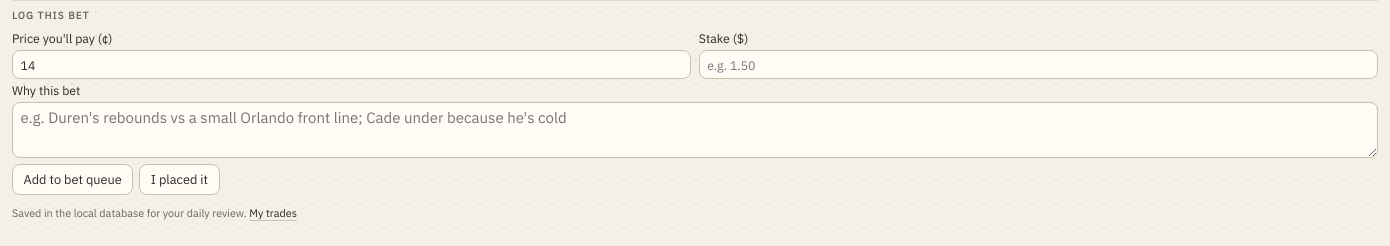
it: Docket: past mistakes and logging a bet › queues the bet with your price, stake and reason (journal header)
The image size is (1390, 246).
Step 1. Type "1.5" into the field labelled "Stake ($)" → (1038, 65), box x1=699 y1=50 x2=1378 y2=79
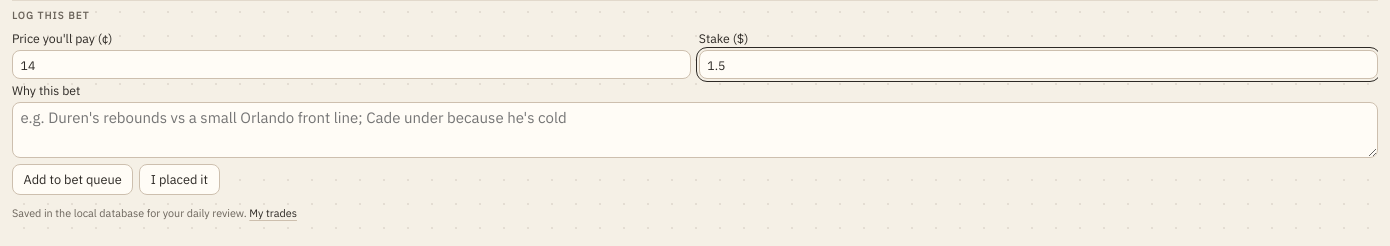
Step 2. Type "Duren vs small lineup" into the text box labelled "Why this bet" → (695, 130), box x1=12 y1=102 x2=1378 y2=158
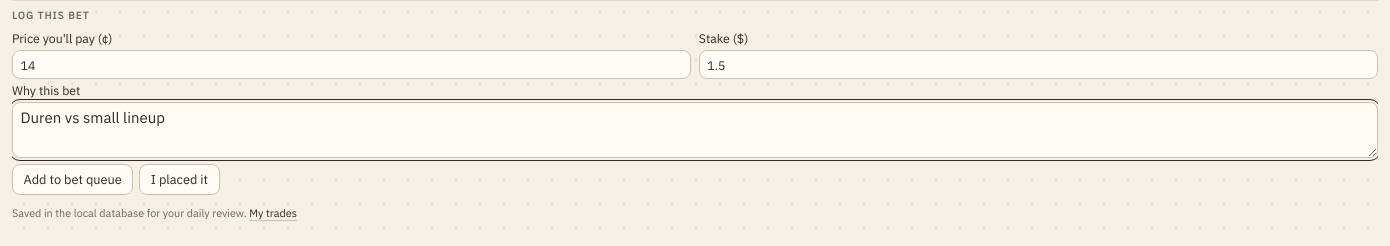
Step 3. Click the button "Add to bet queue" → click(73, 180), box x1=12 y1=164 x2=133 y2=195
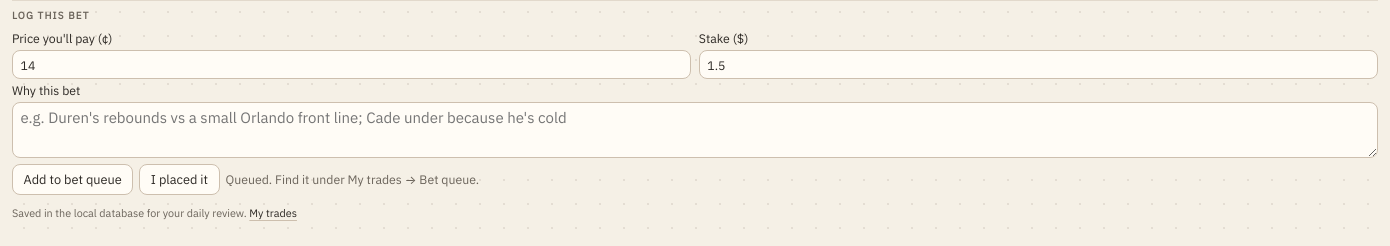
expect the text "Queued. Find it under My trades → Bet queue." is shown: met, box x1=226 y1=170 x2=479 y2=189
